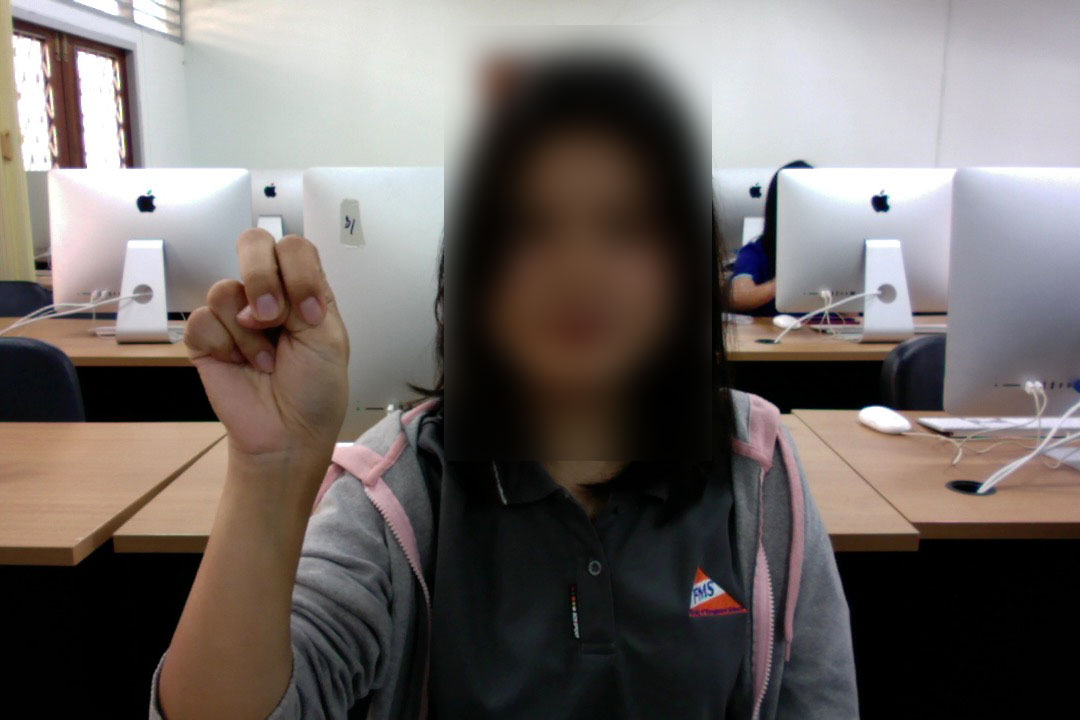nor: (176, 220, 355, 487)
